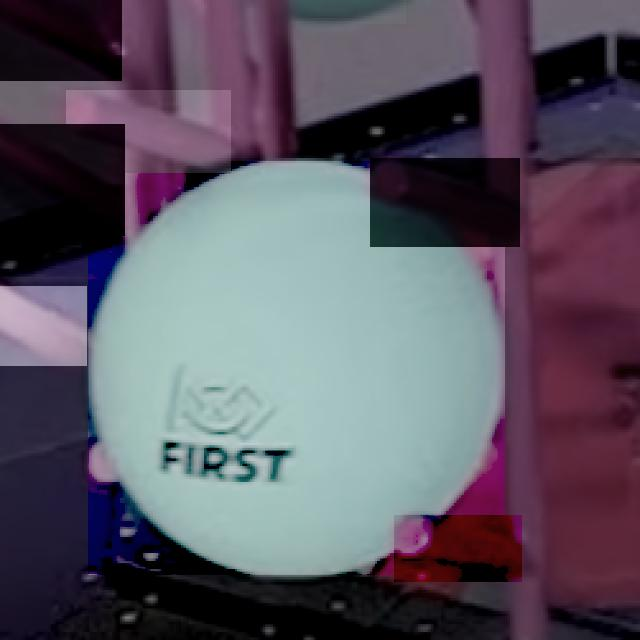Algae: (88, 161, 505, 575), (290, 0, 406, 24)
Reef: (0, 124, 125, 236), (66, 90, 231, 173), (370, 158, 520, 247), (0, 0, 122, 81), (394, 515, 522, 582), (0, 286, 87, 366)
